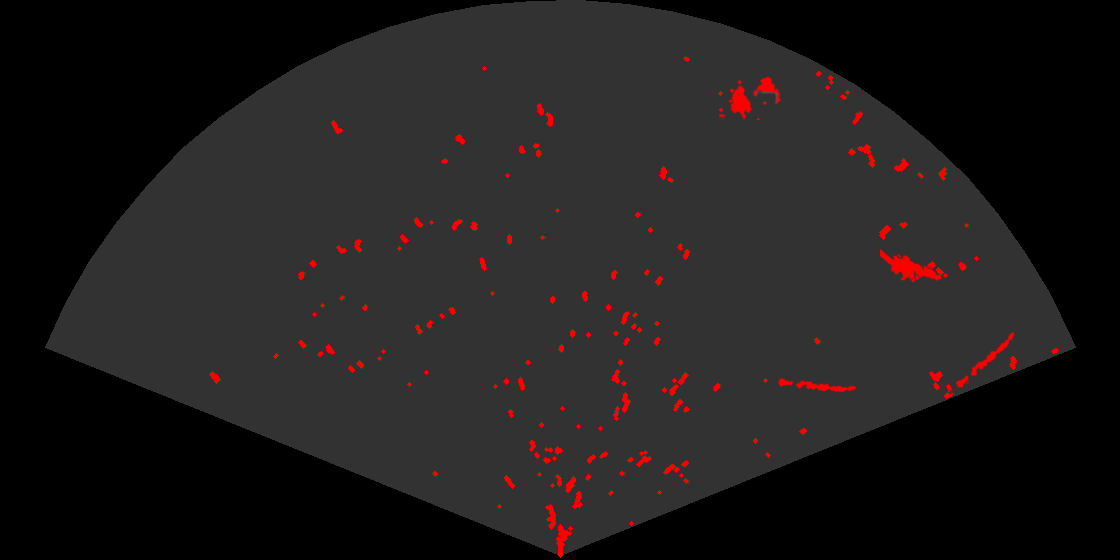cage: (719, 75, 783, 120)
chain: (949, 330, 1016, 396), (775, 377, 858, 394)
frogman: (880, 248, 943, 283)
